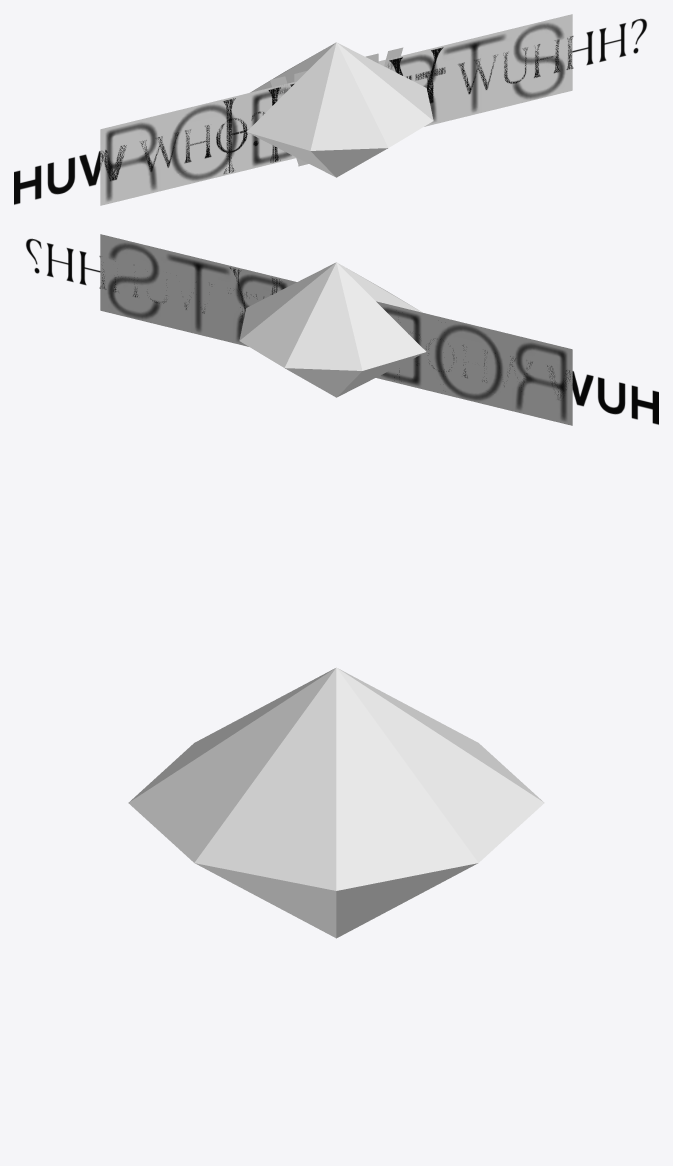
The model's file is hrdev.glb.
3 renders of one model, top to bottom at view 1: azimuth 30°, elevation 25°; view 2: azimuth 150°, elevation 25°; view 3: azimuth 270°, elevation 25°, orthographic. The views are drawn at different scales.
Visible parts, largest first — view 1: hrRobertsSoft, diamond3d, huwWhoAboutWuhhh, hrHuw, capW_2; view 2: hrRobertsSoft, diamond3d, huwWhoAboutWuhhh; view 3: diamond3d.
Part boxes in pixels (box(x1,y1,x2,y2)): hrRobertsSoft: box(100, 14, 572, 205); diamond3d: box(246, 42, 433, 177); huwWhoAboutWuhhh: box(14, 18, 646, 204); hrHuw: box(223, 47, 443, 173); capW_2: box(270, 47, 403, 166); hrRobertsSoft: box(100, 234, 572, 425); diamond3d: box(239, 262, 426, 397); huwWhoAboutWuhhh: box(26, 238, 658, 424); diamond3d: box(128, 667, 544, 938).
Bounding box in the file's own units: 8.37 × 1.68 × 2.34.
Materials: 4 (4 with a texture image).
